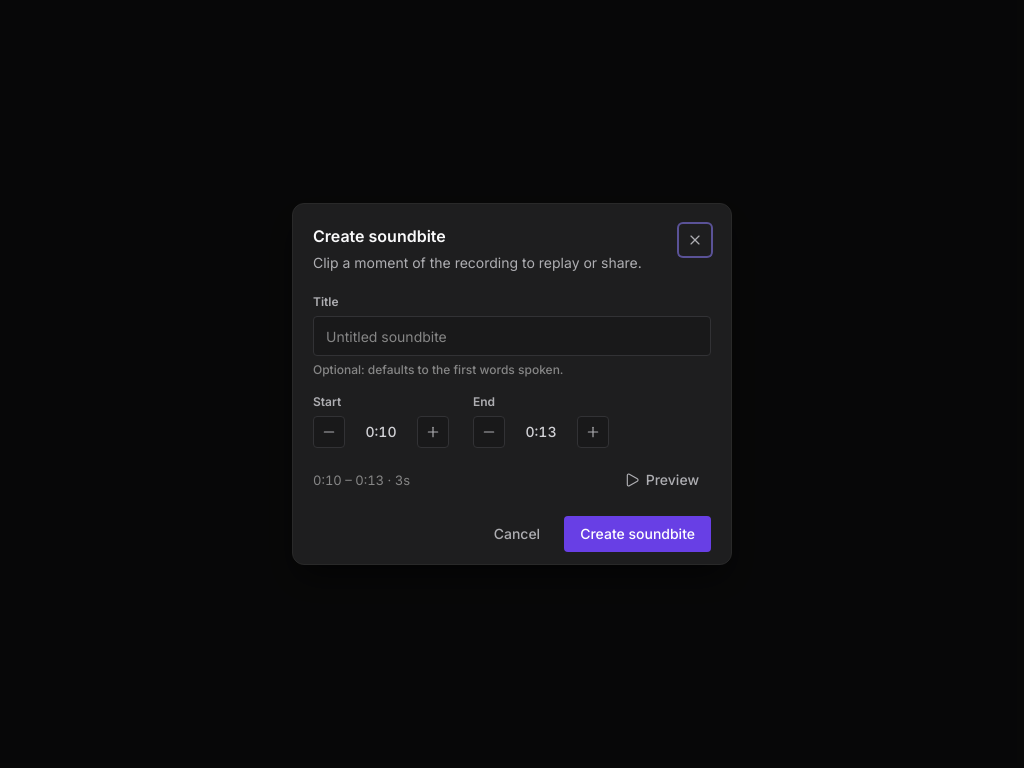
it: CreateSoundbiteModal › explains a too-short clip and will not submit it
The image size is (1024, 768).
Click the button named "Start 1 second later".
click(433, 432)  # box top-left (417, 416), bottom-right (449, 448)
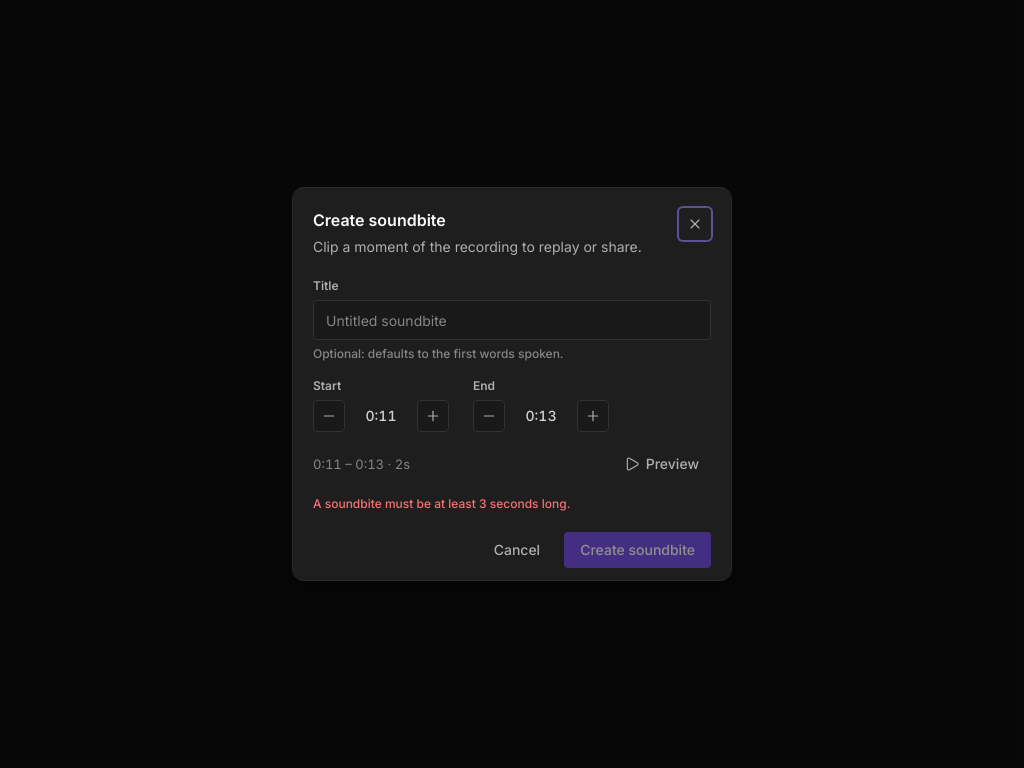
Now the message reads "A soundbite must be at least 3 seconds long.", box top-left (313, 496), bottom-right (570, 511)
Now the button "Create soundbite" is disabled, box top-left (564, 532), bottom-right (711, 568)
# A step that would leave no clip at all is not offered.
Click the button named "Start 1 second later".
click(433, 416)  # box top-left (417, 400), bottom-right (449, 432)
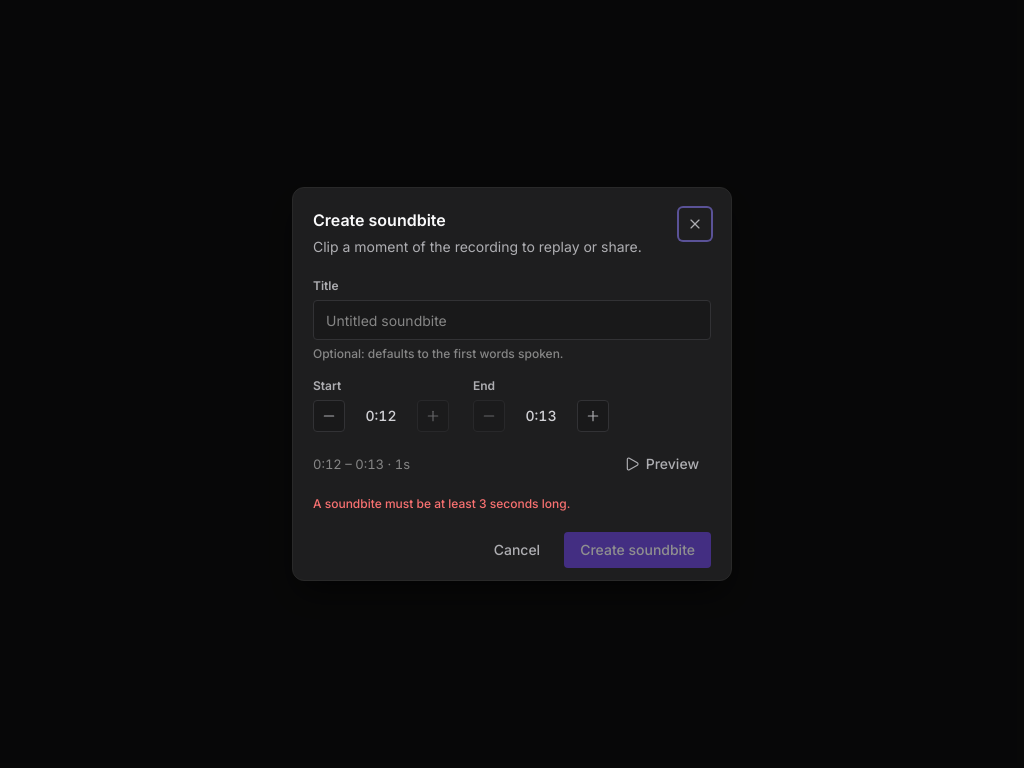
Now the button named "Start 1 second later" is disabled, box top-left (417, 400), bottom-right (449, 432)
